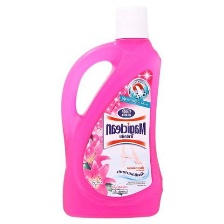cleaning_solution: (59, 2, 165, 221)
